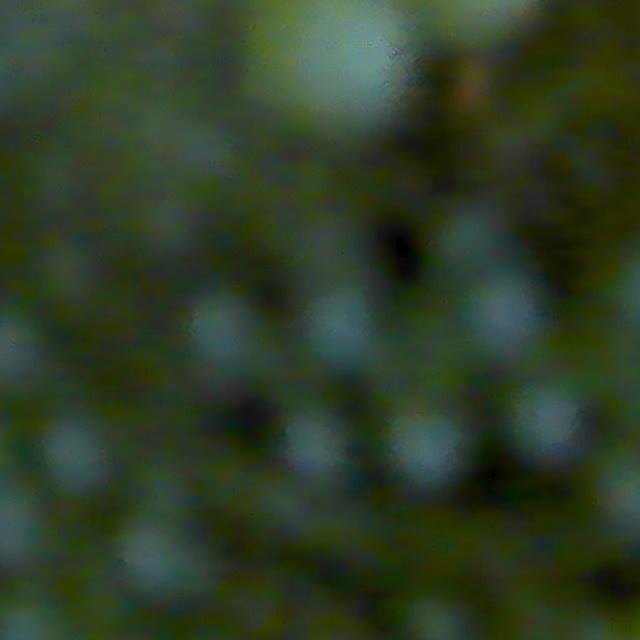SeaGrape: (229, 0, 405, 121), (444, 268, 543, 354), (288, 281, 380, 373), (423, 199, 521, 276), (119, 510, 202, 597), (37, 417, 122, 501), (190, 287, 269, 372), (278, 413, 354, 499), (391, 402, 464, 488), (578, 452, 640, 553), (507, 382, 586, 461), (0, 583, 83, 640), (0, 491, 49, 573), (402, 592, 478, 640)
